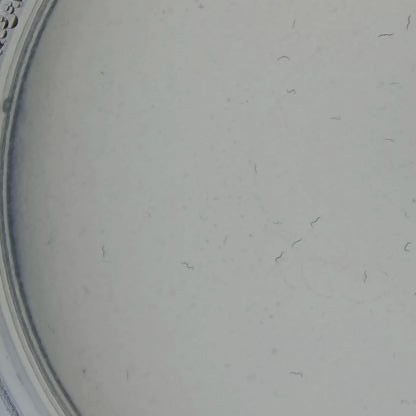worm: (264, 244, 292, 276), (351, 264, 372, 298), (268, 50, 296, 72), (374, 19, 394, 48), (281, 77, 304, 102), (394, 237, 416, 263), (323, 106, 344, 133), (395, 279, 416, 306), (288, 362, 311, 386), (376, 130, 400, 152), (176, 252, 196, 278), (302, 209, 322, 234), (396, 388, 416, 412), (216, 226, 237, 248), (384, 70, 402, 95), (400, 11, 416, 38), (287, 231, 307, 251), (95, 237, 111, 262), (284, 13, 300, 35), (247, 161, 262, 176)
